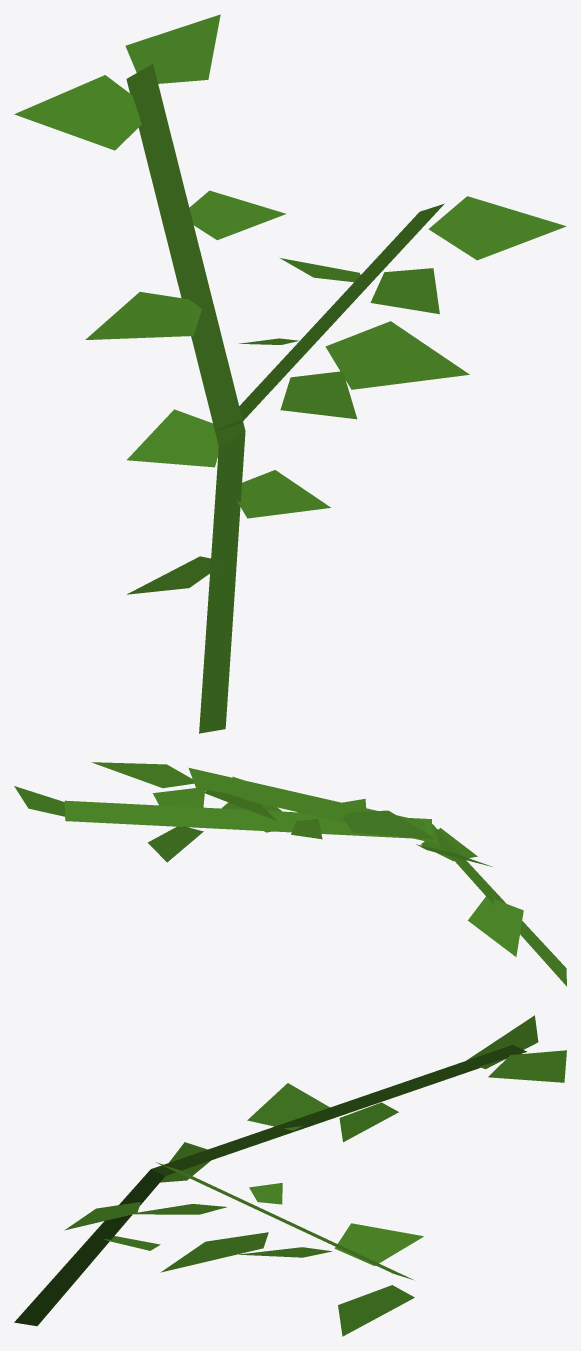
Rendered from ErvaMoura - Copia.fbx.
The picture shows the model from 3 angles, top to bottom: view 1: azimuth 30°, elevation 25°; view 2: azimuth 150°, elevation 25°; view 3: azimuth 270°, elevation 25°; orthographic projection. The views are drawn at different scales.
Parts seen in each view (by area): view 1: galho.007, folha.016, folha.025, folha.021, folha.022, folha.023, folha.013, folha.015, folha.017, folha.024, folha.020, folha.014; view 2: galho.007, folha.014, folha.023, folha.022, folha.019, folha.020, folha.021, folha.025, folha.018, folha.015; view 3: galho.007, folha.019, folha.022, folha.021, folha.023, folha.016, folha.024, folha.025, folha.015, folha.013, folha.017, folha.020 (+1 smaller).
Boxes of the visible parts, x1=… form: galho.007: x1=126, y1=64, x2=444, y2=733; folha.016: x1=325, y1=321, x2=469, y2=389; folha.025: x1=14, y1=75, x2=141, y2=150; folha.021: x1=428, y1=196, x2=566, y2=260; folha.022: x1=125, y1=14, x2=220, y2=83; folha.023: x1=85, y1=292, x2=201, y2=339; folha.013: x1=127, y1=409, x2=218, y2=467; folha.015: x1=236, y1=470, x2=330, y2=518; folha.017: x1=280, y1=371, x2=357, y2=419; folha.024: x1=189, y1=190, x2=285, y2=240; folha.020: x1=370, y1=268, x2=439, y2=314; folha.014: x1=127, y1=556, x2=218, y2=594; galho.007: x1=64, y1=767, x2=566, y2=986; folha.014: x1=468, y1=896, x2=523, y2=956; folha.023: x1=343, y1=810, x2=436, y2=839; folha.022: x1=91, y1=762, x2=194, y2=788; folha.019: x1=148, y1=826, x2=203, y2=862; folha.020: x1=153, y1=788, x2=204, y2=807; folha.021: x1=14, y1=786, x2=64, y2=816; folha.025: x1=203, y1=790, x2=276, y2=820; folha.018: x1=291, y1=819, x2=322, y2=839; folha.015: x1=421, y1=828, x2=477, y2=861; galho.007: x1=14, y1=1045, x2=526, y2=1326; folha.019: x1=334, y1=1223, x2=423, y2=1265; folha.022: x1=488, y1=1050, x2=566, y2=1082; folha.021: x1=338, y1=1285, x2=414, y2=1336; folha.023: x1=247, y1=1083, x2=329, y2=1130; folha.016: x1=160, y1=1232, x2=268, y2=1272; folha.024: x1=339, y1=1102, x2=398, y2=1142; folha.025: x1=466, y1=1015, x2=538, y2=1069; folha.015: x1=64, y1=1202, x2=140, y2=1230; folha.013: x1=160, y1=1142, x2=210, y2=1182; folha.017: x1=128, y1=1204, x2=226, y2=1214; folha.020: x1=238, y1=1247, x2=332, y2=1257.
Size of the model in its own units: 15.33 by 11.52 by 15.13.
